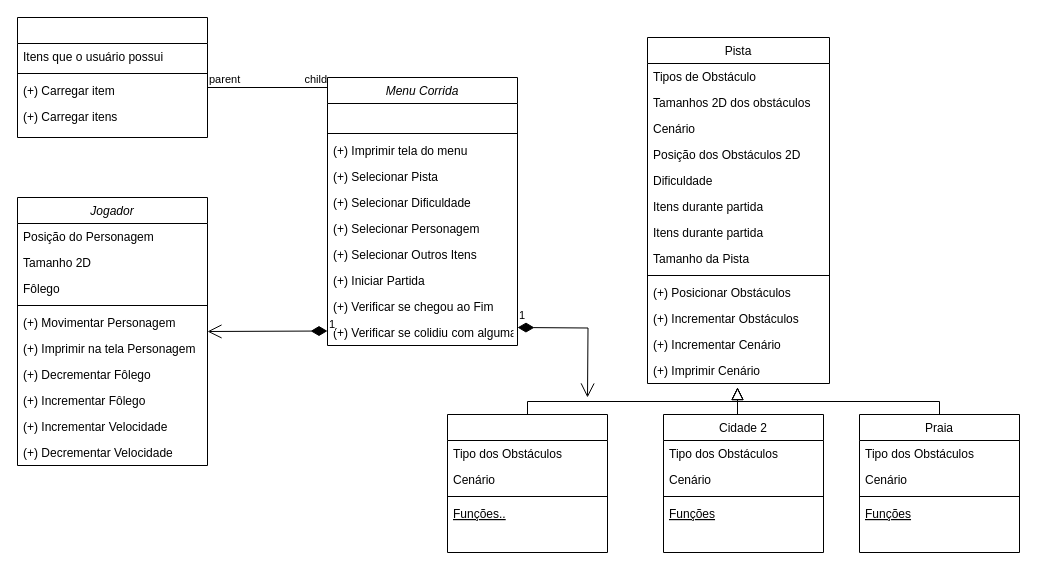
Some shapes in this 1037 by 570 pixel diagram are drawn without their labels. Each missing label, with the box of its shape:
Cidade 1: (446, 414, 608, 552)
Inventário: (16, 16, 208, 138)
